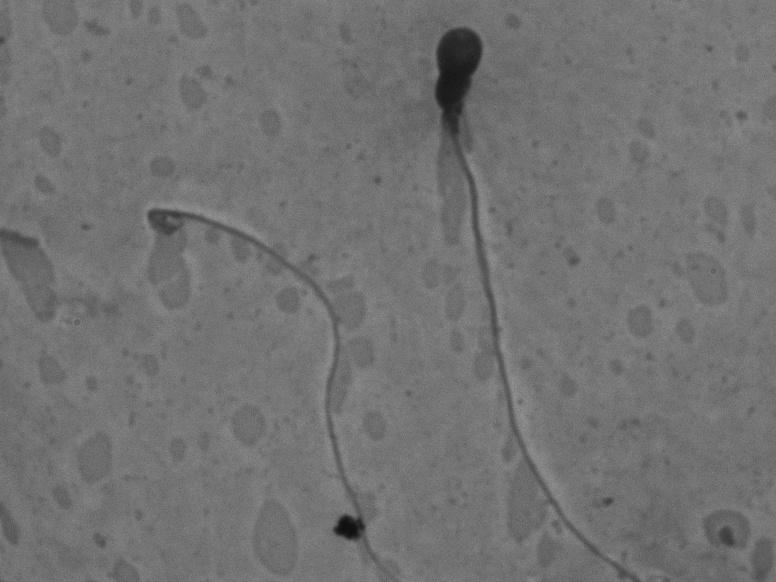Abnormal: (132, 186, 402, 556), (423, 19, 597, 564)
